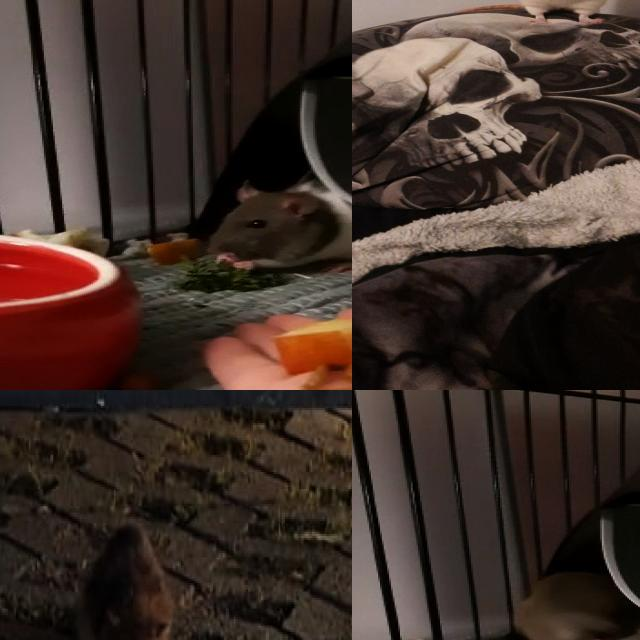rat: (206, 175, 352, 277), (77, 527, 170, 640), (510, 573, 637, 640), (459, 0, 612, 23)
